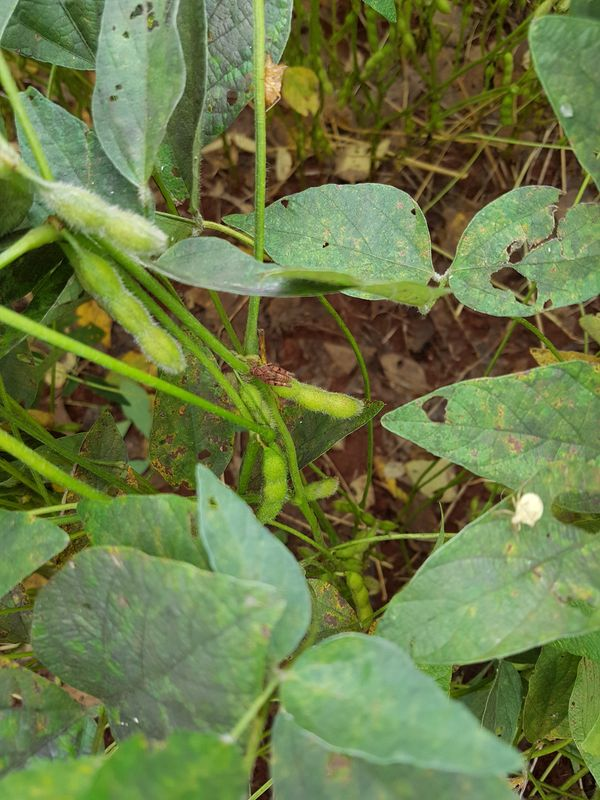Euschistus_heros_adulto: (237, 50, 293, 120)
Euschistus_heros_ninfa: (488, 478, 552, 543)
Rhammatocerus_schistocercoides: (218, 328, 301, 397)
